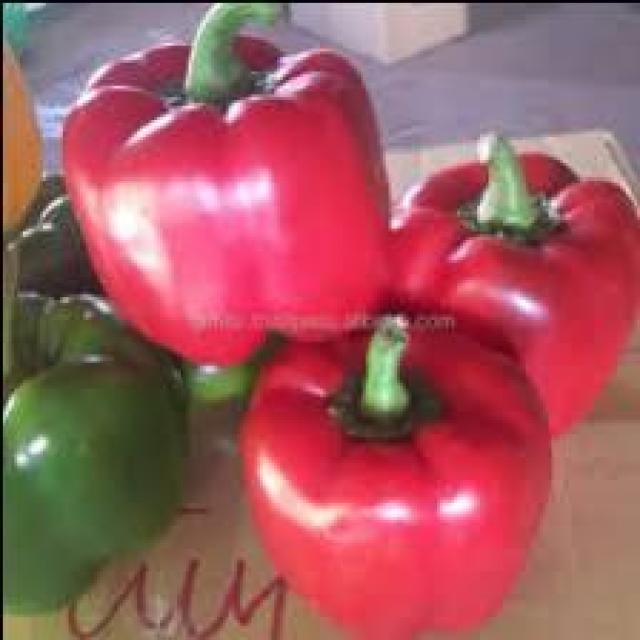Pepper: (240, 323, 554, 631), (81, 52, 389, 338), (397, 137, 634, 437), (3, 280, 186, 617)
